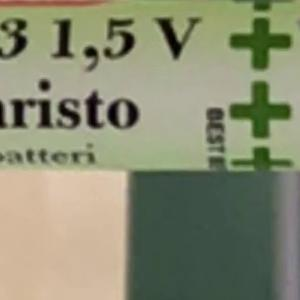1,5V: (41, 7, 212, 69)
